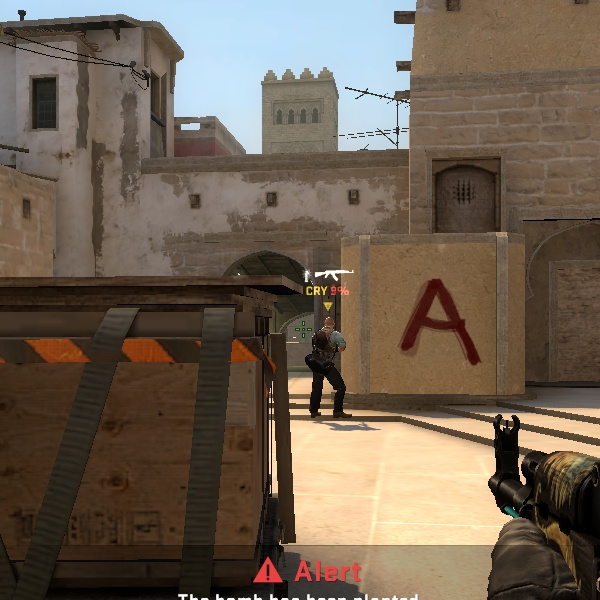t_body: (294, 313, 361, 420)
t_head: (320, 314, 340, 334)
